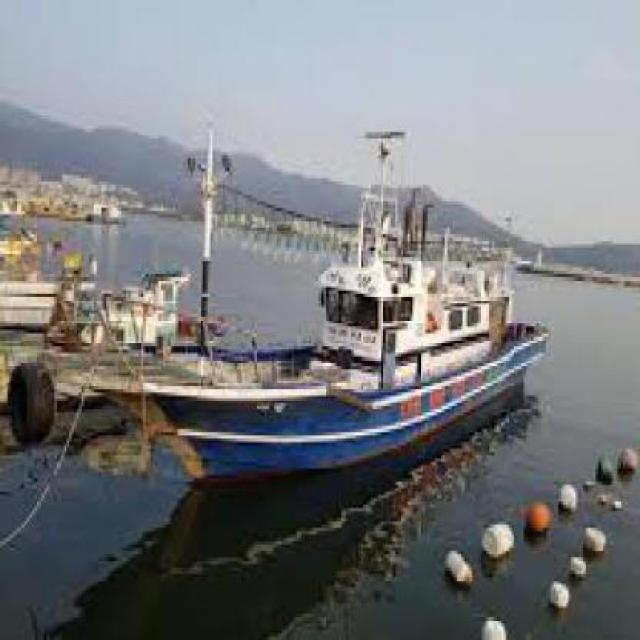fish-b: (87, 120, 575, 500)
